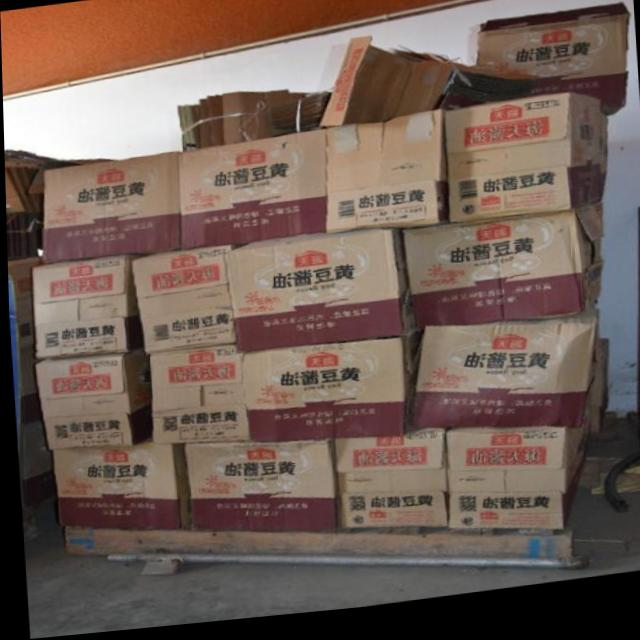box: (402, 213, 603, 337), (221, 235, 411, 357), (410, 319, 594, 437), (239, 339, 417, 448), (176, 135, 325, 251), (442, 422, 586, 540), (40, 155, 179, 263), (444, 103, 602, 190), (182, 447, 334, 537), (30, 353, 151, 454), (331, 434, 440, 538), (49, 448, 185, 531), (31, 255, 137, 359), (129, 248, 231, 355), (324, 118, 445, 200), (145, 350, 242, 447), (445, 176, 603, 231), (326, 190, 448, 240)
